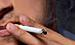smoke: (13, 21, 47, 36)
